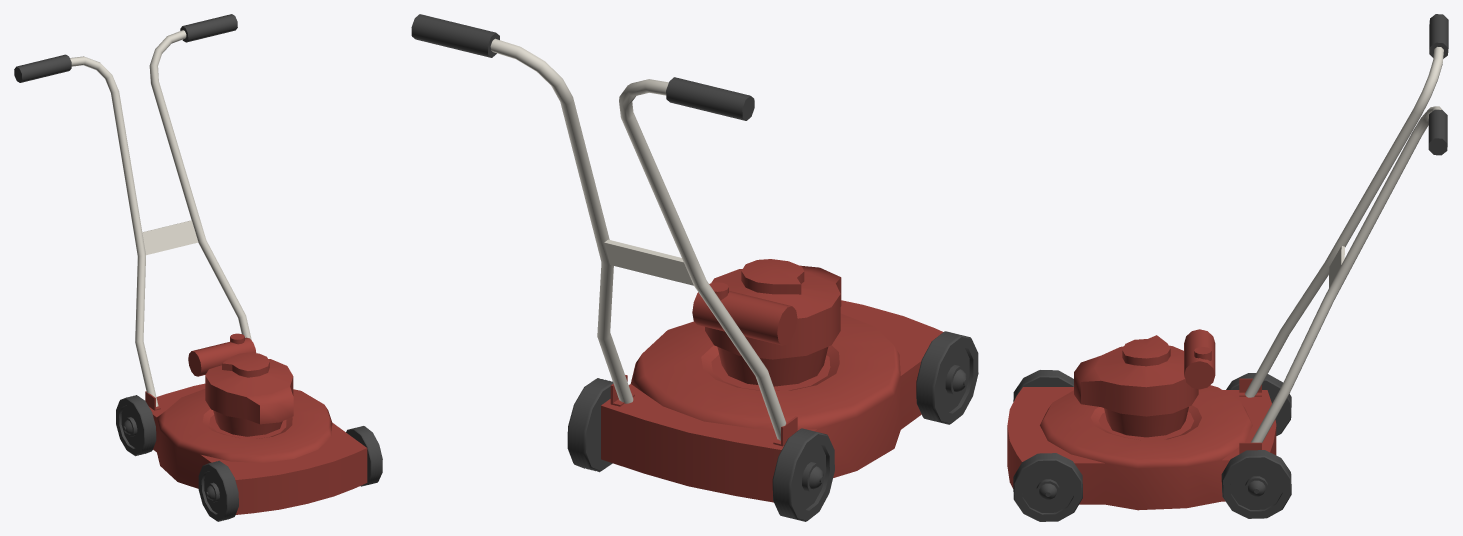
The model's file is lawnmower.fbx.
3 views of the same model, side by side, from view 1: azimuth 30°, elevation 25°; view 2: azimuth 150°, elevation 25°; view 3: azimuth 270°, elevation 25° (orthographic). The views are drawn at different scales.
Parts seen in each view (by area): view 1: lawnmower; view 2: lawnmower; view 3: lawnmower.
Part boxes in pixels (left/top/right/bottom): lawnmower: left=14, top=14, right=382, bottom=521; lawnmower: left=411, top=14, right=978, bottom=521; lawnmower: left=1007, top=14, right=1448, bottom=521.
Size of the model in its own units: 0.0461 by 0.0693 by 0.0689.
